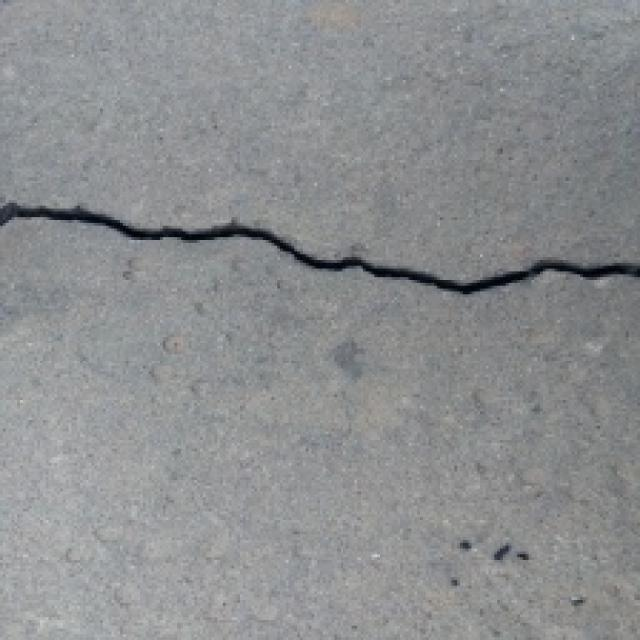SurfaceCrack: (6, 162, 640, 338)
